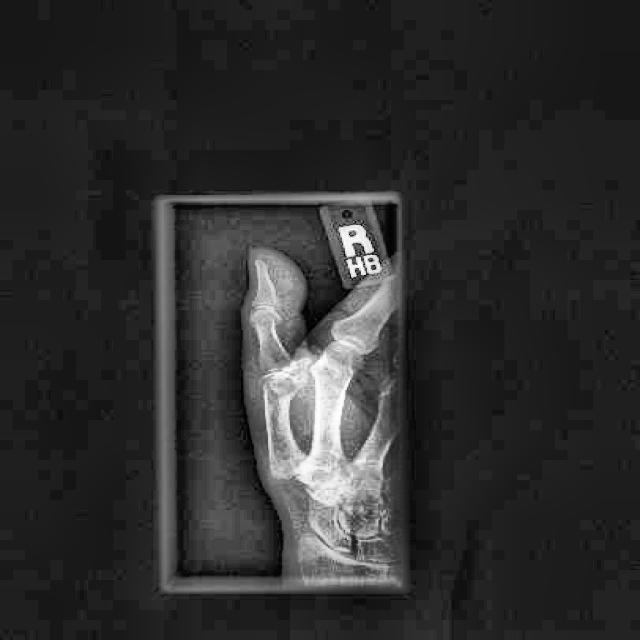fingers positive: (250, 368, 312, 404), (243, 306, 292, 332)
